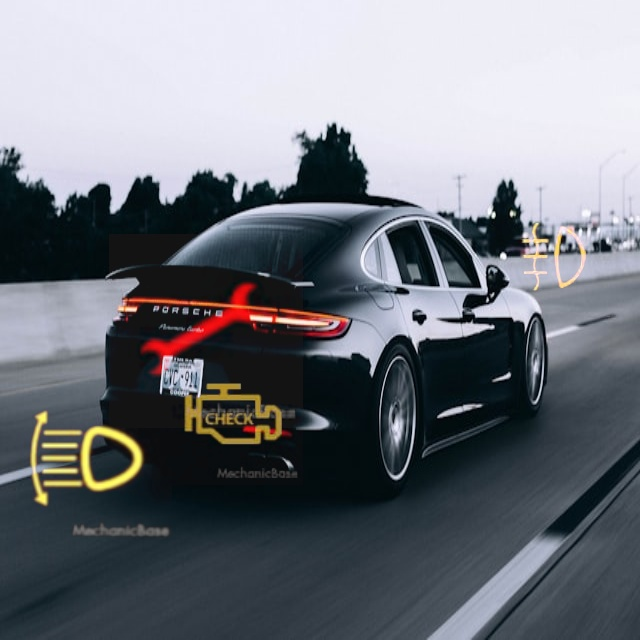symbol: (109, 234, 303, 428), (3, 372, 172, 541), (162, 344, 303, 485), (489, 191, 622, 324)
